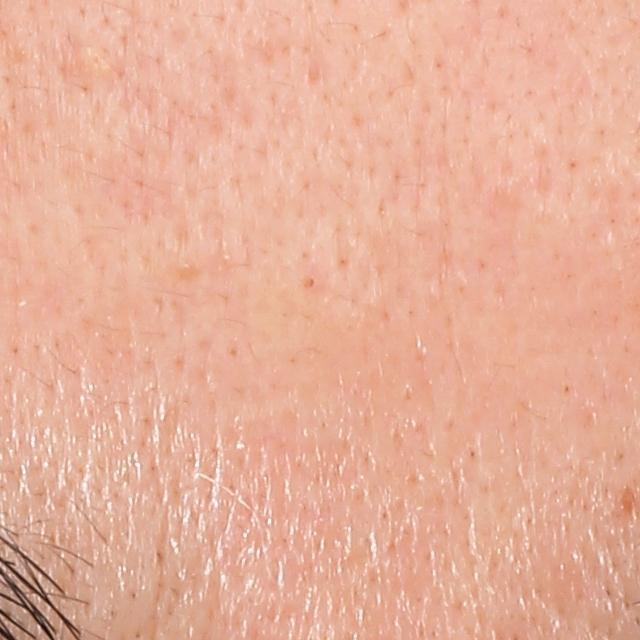comedo: (297, 270, 322, 299)
